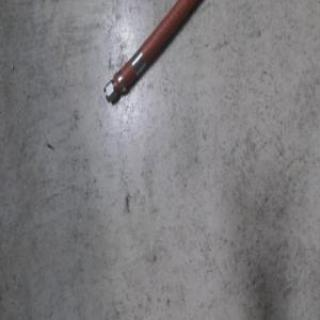Hosetrack_idkeyframe: (102, 0, 204, 106)
